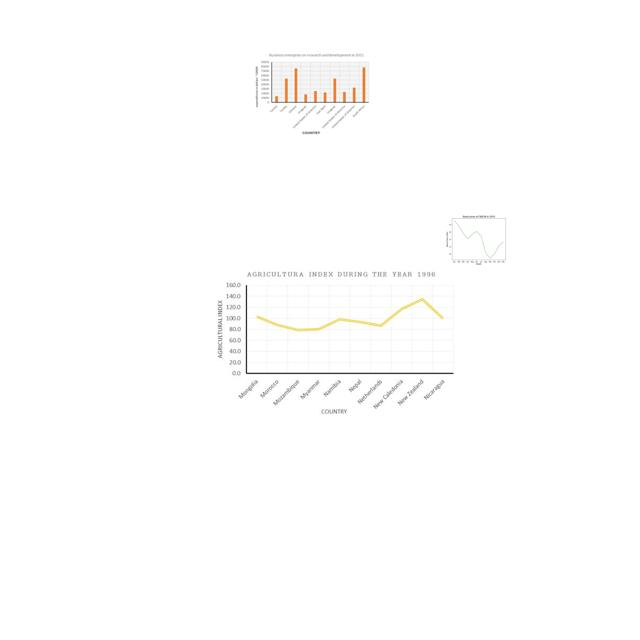Graph: (212, 268, 458, 415), (253, 51, 371, 137), (442, 212, 514, 266)
